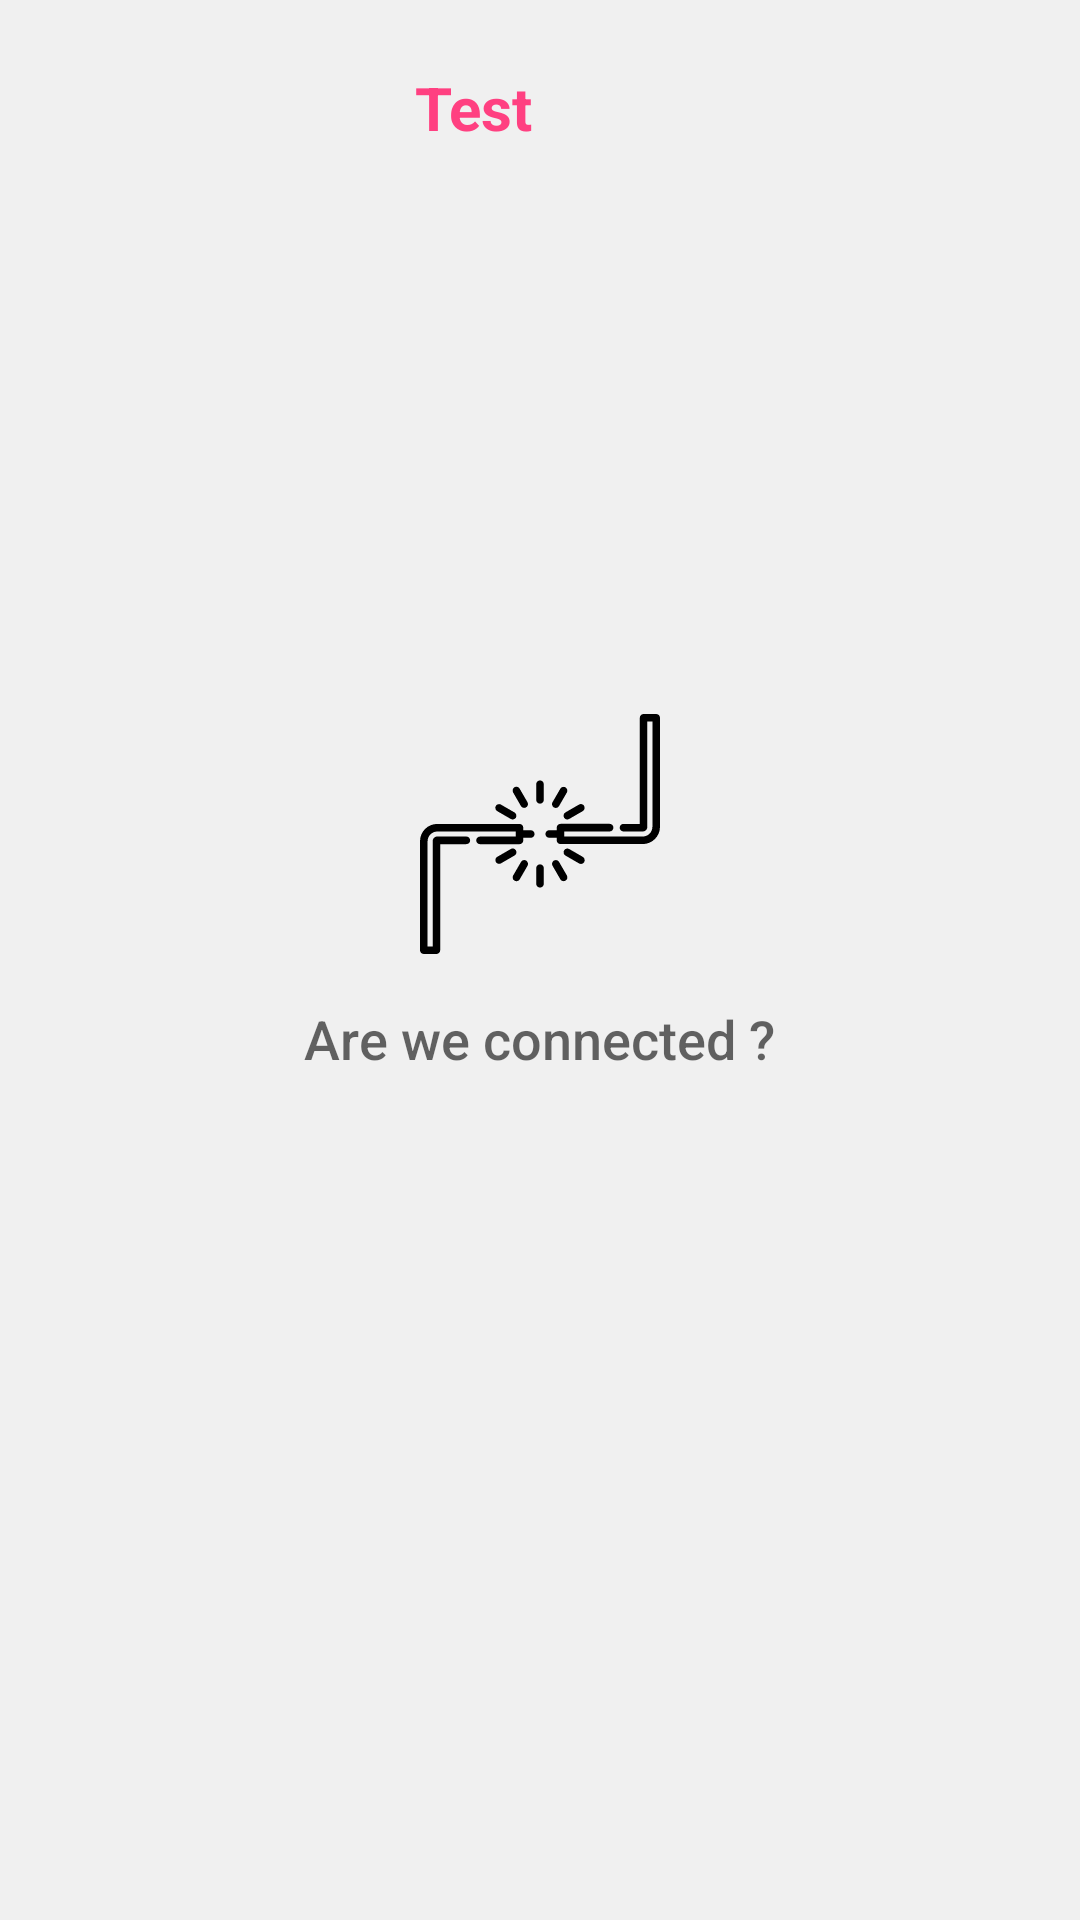

Where icons sit on this 1080 x 1920 app screen, as (x1, y1, x2, y2):
There is no internet connection: (420, 714, 660, 954)
